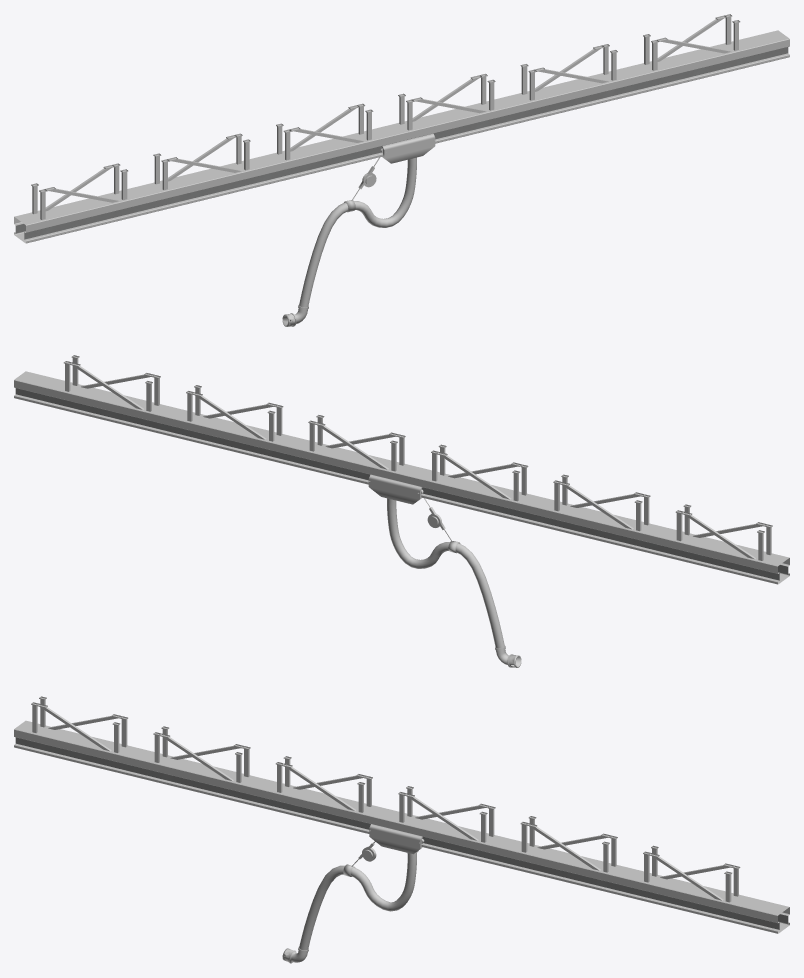
The model's file is WaterPipe.fbx.
3 views of the same model, one above another, from view 1: azimuth 30°, elevation 25°; view 2: azimuth 150°, elevation 25°; view 3: azimuth 330°, elevation 25° (orthographic).
Visible parts, largest first — view 1: WaterPipe_LOD0; view 2: WaterPipe_LOD0; view 3: WaterPipe_LOD0.
Part boxes in pixels (x1=…): WaterPipe_LOD0: x1=14, y1=14, x2=789, y2=326; WaterPipe_LOD0: x1=14, y1=355, x2=789, y2=667; WaterPipe_LOD0: x1=14, y1=696, x2=789, y2=963.
Size of what is drawn, in the model's own units: 18.73 by 4.7 by 0.6677.
